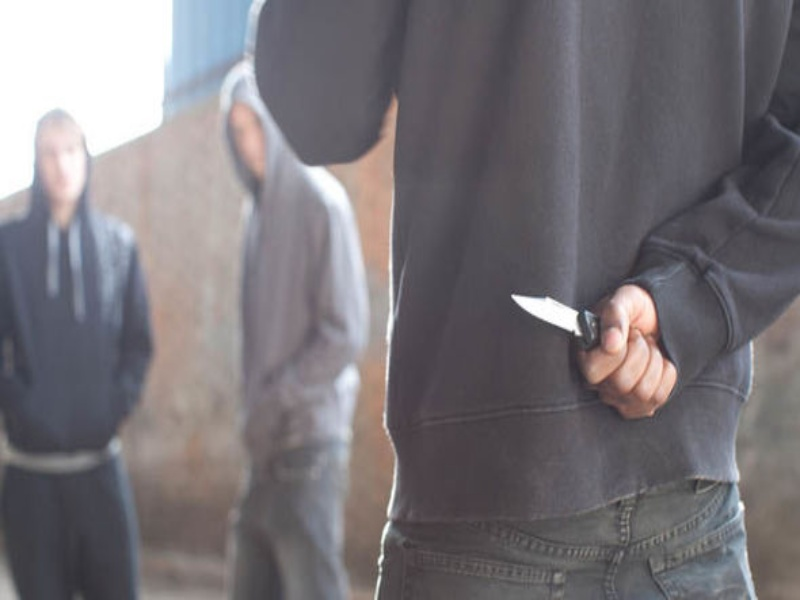hand: (572, 281, 677, 420)
knife: (510, 290, 600, 348)
person: (1, 111, 153, 600), (221, 61, 356, 600)
